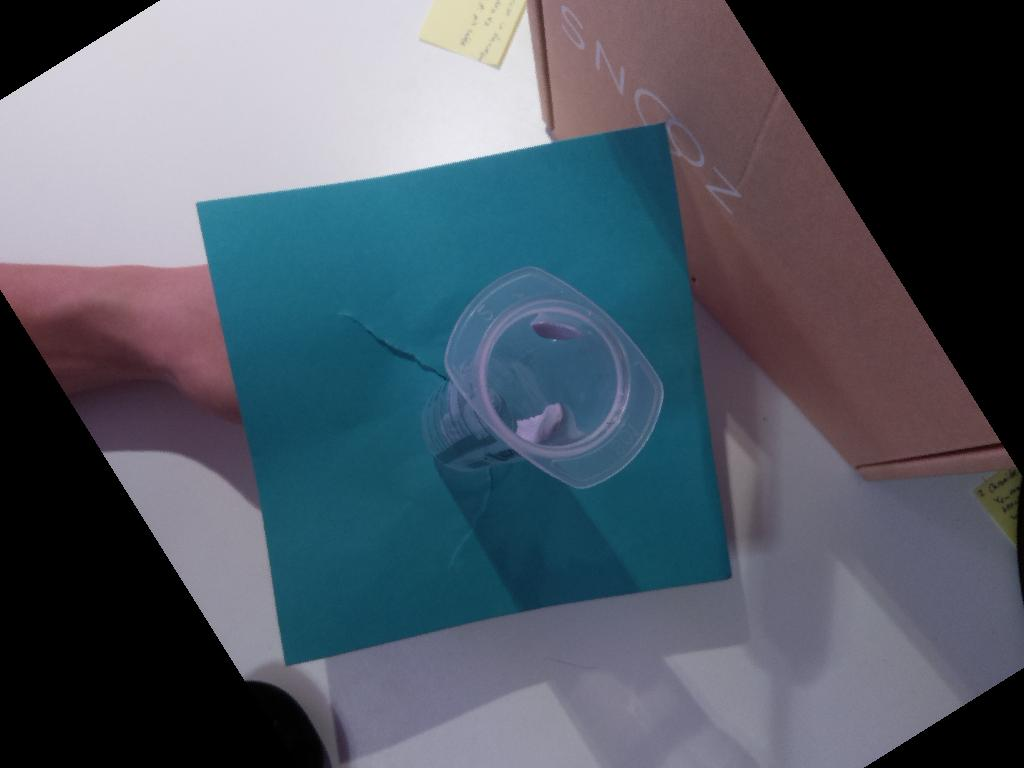dirty: (442, 262, 665, 490)
